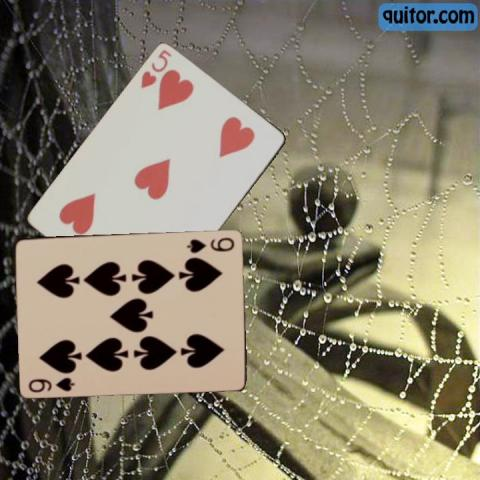5h: (138, 47, 174, 91)
9s: (183, 234, 237, 255), (26, 374, 76, 393)
